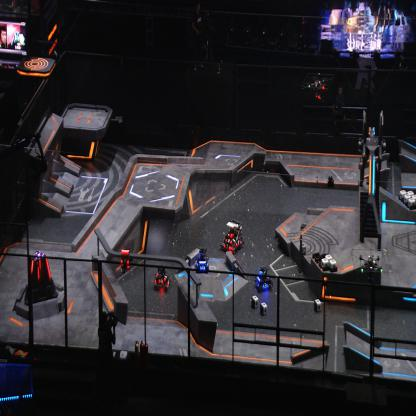car: (220, 218, 244, 254), (254, 264, 272, 294), (153, 264, 172, 291), (196, 247, 209, 274)
